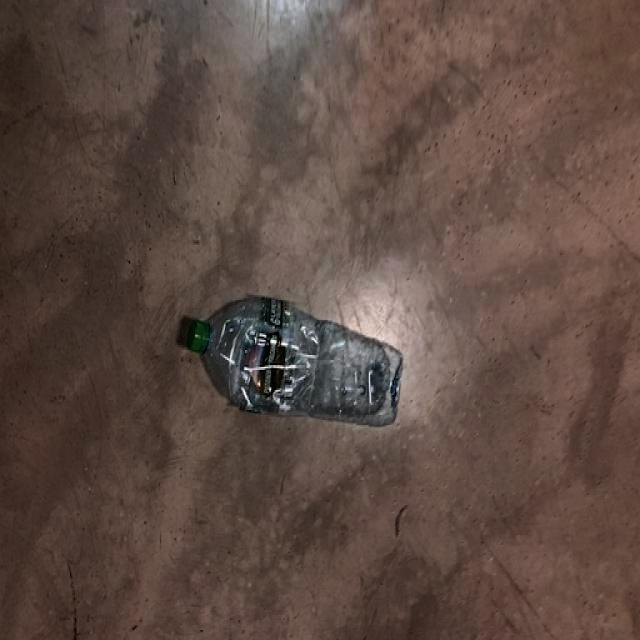bottle: (186, 297, 404, 427)
